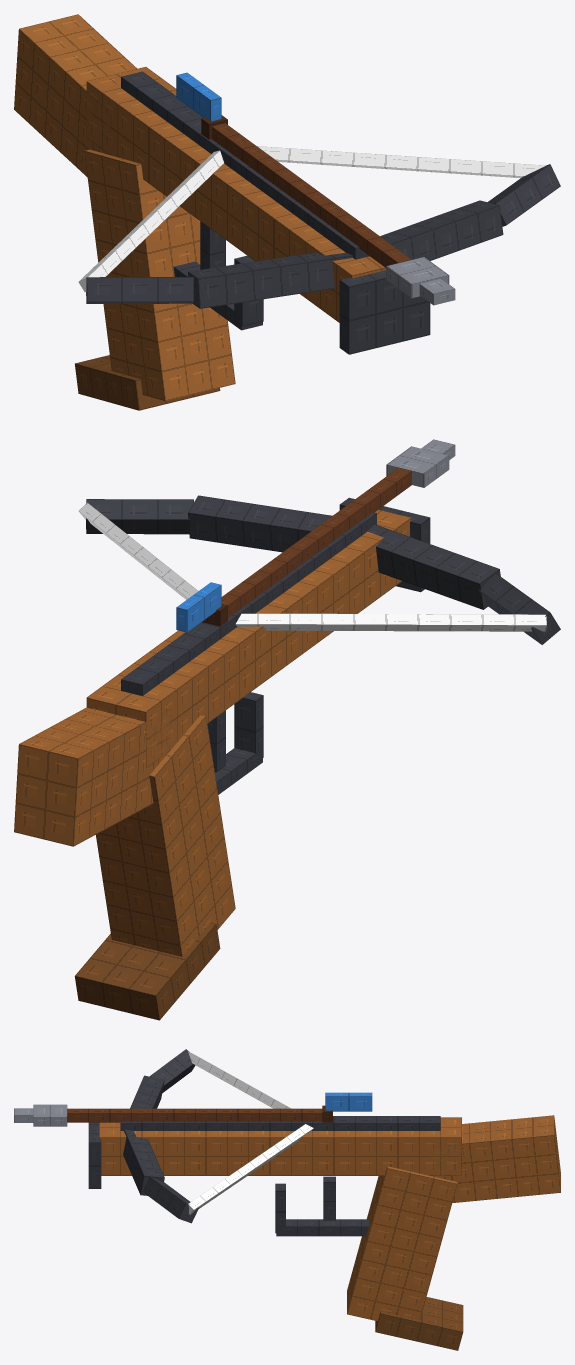
The picture shows the model from 3 angles, top to bottom: view 1: azimuth 30°, elevation 25°; view 2: azimuth 150°, elevation 25°; view 3: azimuth 270°, elevation 25°; orthographic projection. The views are drawn at different scales.
Parts seen in each view (by area): view 1: W08; view 2: W08; view 3: W08.
Part boxes in pixels (box(x1,y1,x2,y2)): W08: box(14, 14, 560, 410); W08: box(14, 439, 560, 1020); W08: box(14, 1049, 560, 1350).
Size of the model in its own units: 1.75 by 1.26 by 2.56.
1 material, 1 textured.
